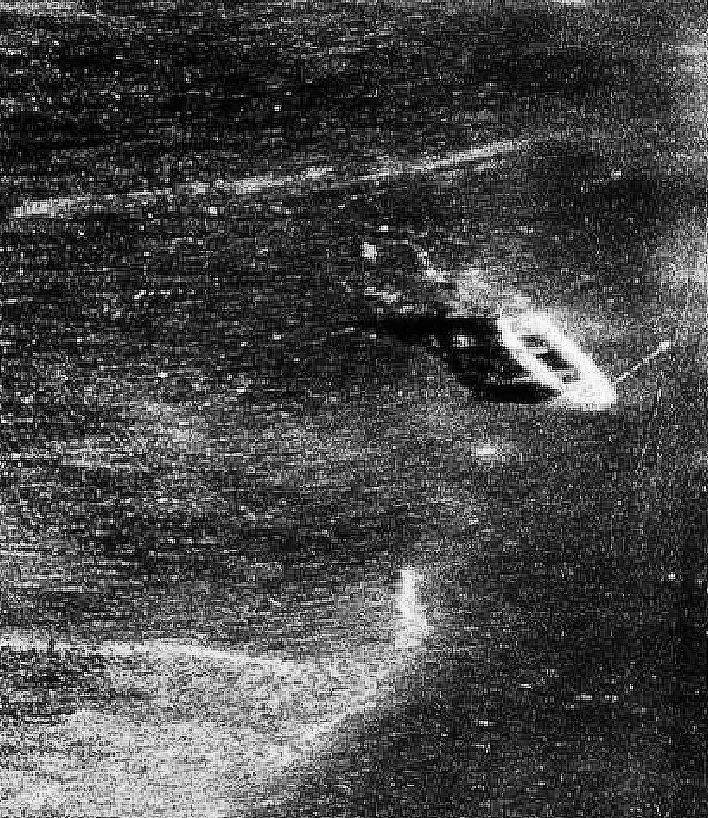ship: (486, 304, 622, 424)
